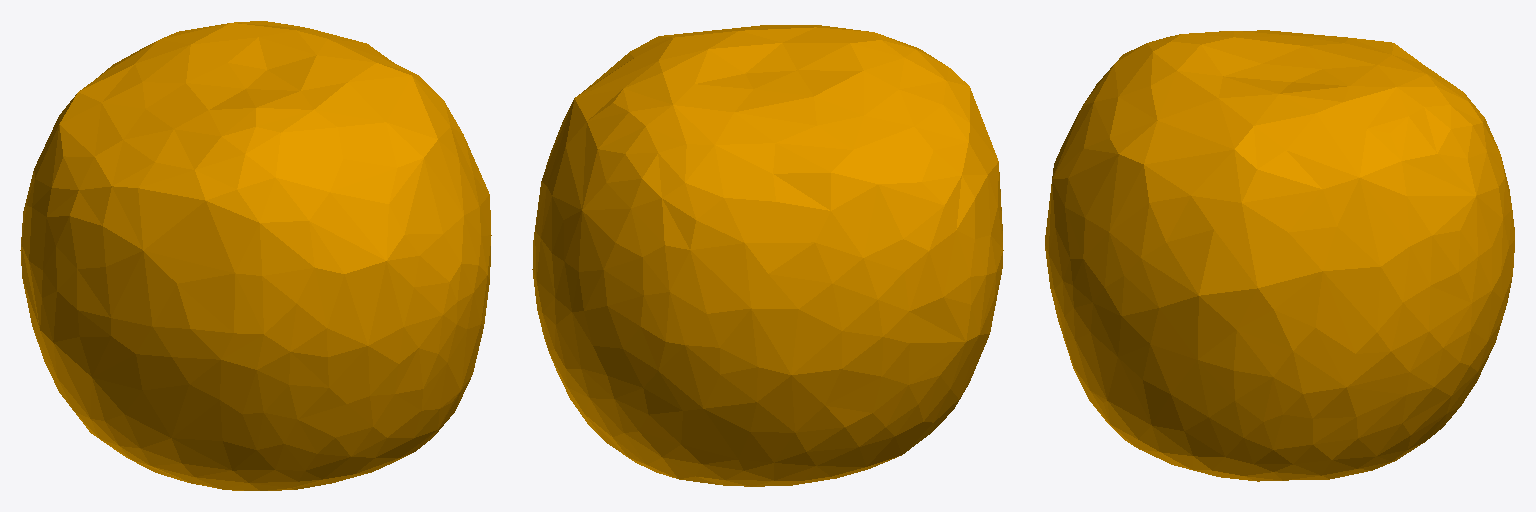
URDF robot description (apple):
<?xml version="1.0"?>
<robot name="apple">
  <link name="base_link">
    <contact>
      <lateral_friction value="1.0"/>
      <rolling_friction value="0.0"/>
      <contact_cfm value="0.0"/>
      <contact_erp value="1.0"/>
    </contact>
    <inertial>
      <mass value="0.187288855107"/>
      <inertia ixx="1" ixy="0" ixz="0" iyy="1" iyz="0" izz="1"/>
    </inertial>
    <visual>
      <geometry>
        <mesh filename="apple_visual.obj"/>
      </geometry>
    </visual>
    <collision>
      <geometry>
        <mesh filename="apple_collision.obj"/>
      </geometry>
    </collision>
  </link>
</robot>

--- Render facts (derived) ---
Views: 3 orthographic renders of the robot side by side, from view 1: azimuth 30°, elevation 25°; view 2: azimuth 150°, elevation 25°; view 3: azimuth 270°, elevation 25°.
Robot: apple — 1 links, 0 joints (none); root link base_link; default pose: every joint at zero.
Links seen in each view (by area): view 1: base_link; view 2: base_link; view 3: base_link.
Boxes of the visible links, x1,y1,x2,y2 form: base_link: (20, 21, 491, 490); base_link: (532, 25, 1003, 486); base_link: (1045, 30, 1514, 481).
Bounding box of the posed robot: 0.07 × 0.0708 × 0.0611 m (x, y, z).
Meshes: 1 distinct files referenced, 1 mesh visuals loaded (1 OBJ).